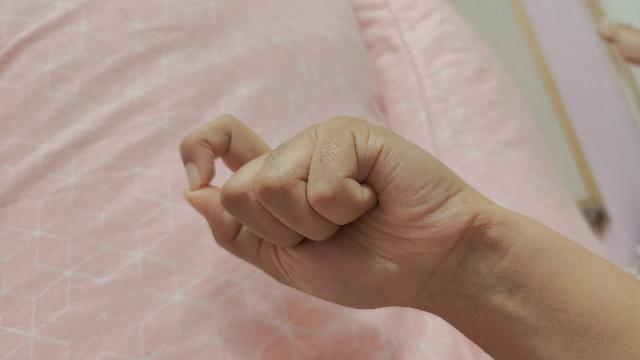kapitth: (178, 116, 640, 360)
